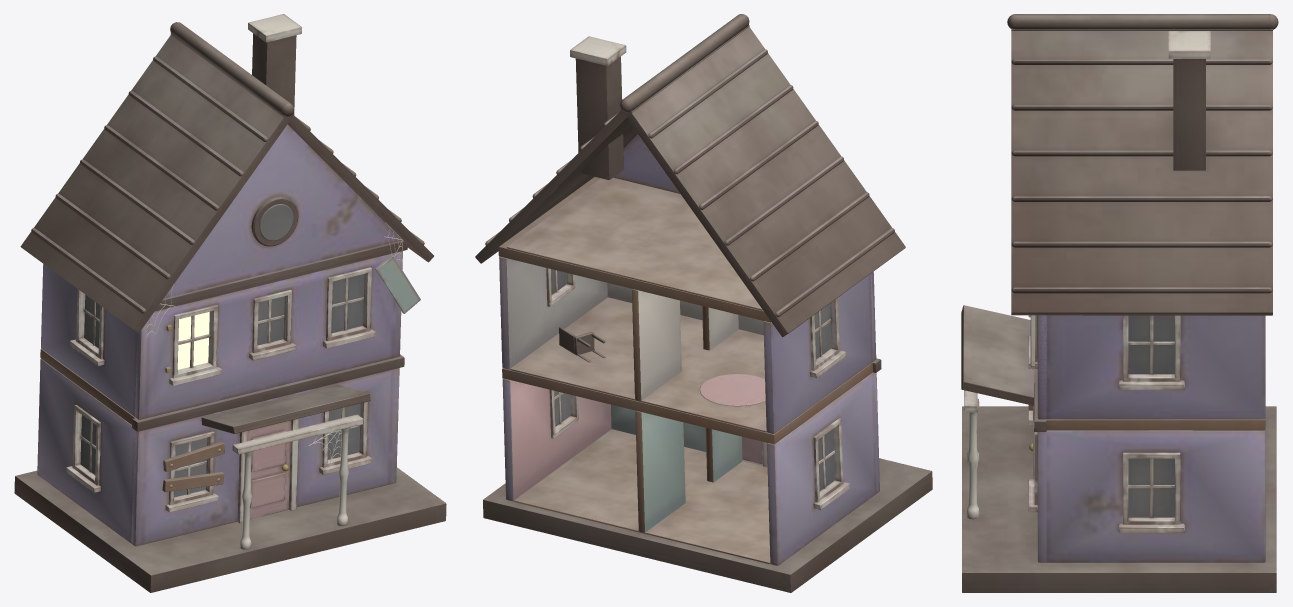
The model's file is casa_encantada.glb.
3 renders of one model, left to right at view 1: azimuth 30°, elevation 25°; view 2: azimuth 150°, elevation 25°; view 3: azimuth 270°, elevation 25°, orthographic. The views are drawn at different scales.
Visible parts, largest first — view 1: haunted-dollhouse_body; view 2: haunted-dollhouse_body; view 3: haunted-dollhouse_body.
Boxes of the visible parts, <box> form: haunted-dollhouse_body: <box>14,14,446,592</box>; haunted-dollhouse_body: <box>475,14,932,592</box>; haunted-dollhouse_body: <box>961,14,1278,592</box>.
Bounding box in the file's own units: 0.5367 × 0.742 × 0.4173.
Materials: 3 (1 with a texture image).
